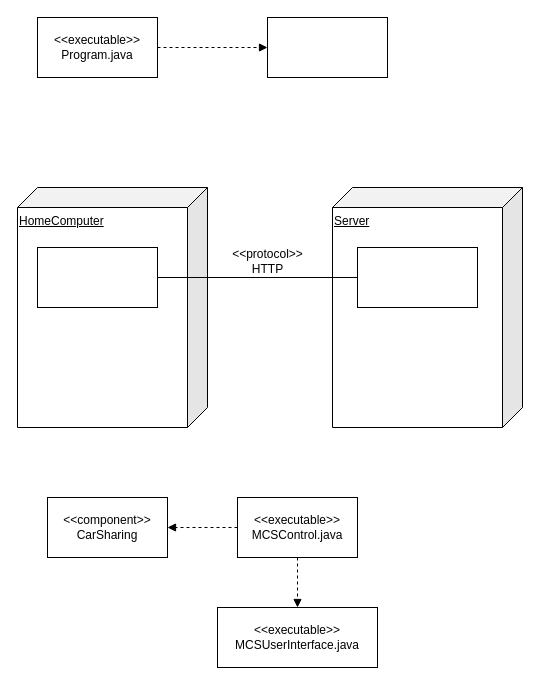
Image size: 540x685. Some labels were removed from this diagram. The centre of each missing label's shape, as x and y in pixels:
<<component>> executables.zip: the point at 327,47
<<component>> Web browser: the point at 97,277
<<component>> Web server: the point at 417,277
